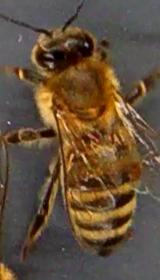varroa_mite: (116, 155, 144, 183)
